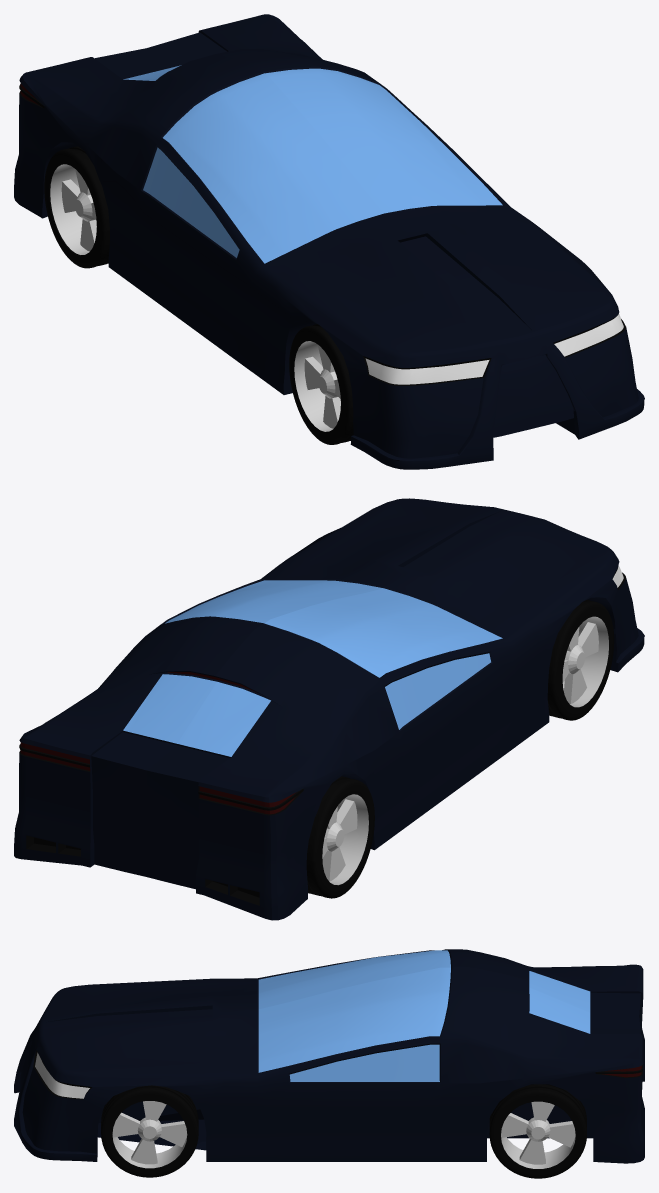
Rendered from 002-NewCar.FBX.
3 views of the same model, one above another, from view 1: azimuth 30°, elevation 25°; view 2: azimuth 150°, elevation 25°; view 3: azimuth 270°, elevation 25° (orthographic). The views are drawn at different scales.
Visible parts, largest first — view 1: Chassi, Rubber001, Rubber, Wheel Rim, Wheel Rim001, Wheel Spline, Wheel Spline001; view 2: Chassi, Rubber001, Rubber, Wheel Rim, Wheel Spline, Wheel Spline001, Wheel Rim001; view 3: Chassi, Rubber003, Rubber002, Wheel Spline003, Wheel Spline002, Wheel Rim002, Wheel Rim003.
Part boxes in pixels (x1,y1,x2,y2): Chassi: (14,14,644,469); Rubber001: (44,146,109,268); Rubber: (289,324,353,444); Wheel Rim: (292,338,342,434); Wheel Rim001: (49,163,96,256); Wheel Spline: (304,345,340,428); Wheel Spline001: (61,169,96,251); Chassi: (14,498,644,920); Rubber001: (306,776,374,898); Rubber: (547,600,614,720); Wheel Rim: (561,613,610,710); Wheel Spline: (562,622,598,703); Wheel Spline001: (322,799,357,881); Wheel Rim001: (322,793,369,886); Chassi: (14,949,644,1163); Rubber003: (489,1084,586,1178); Rubber002: (101,1085,198,1177); Wheel Spline003: (501,1101,575,1164); Wheel Spline002: (112,1101,186,1164); Wheel Rim002: (110,1098,189,1170); Wheel Rim003: (500,1101,576,1169).
Size of the model in its own units: 1046 by 729 by 2609.
